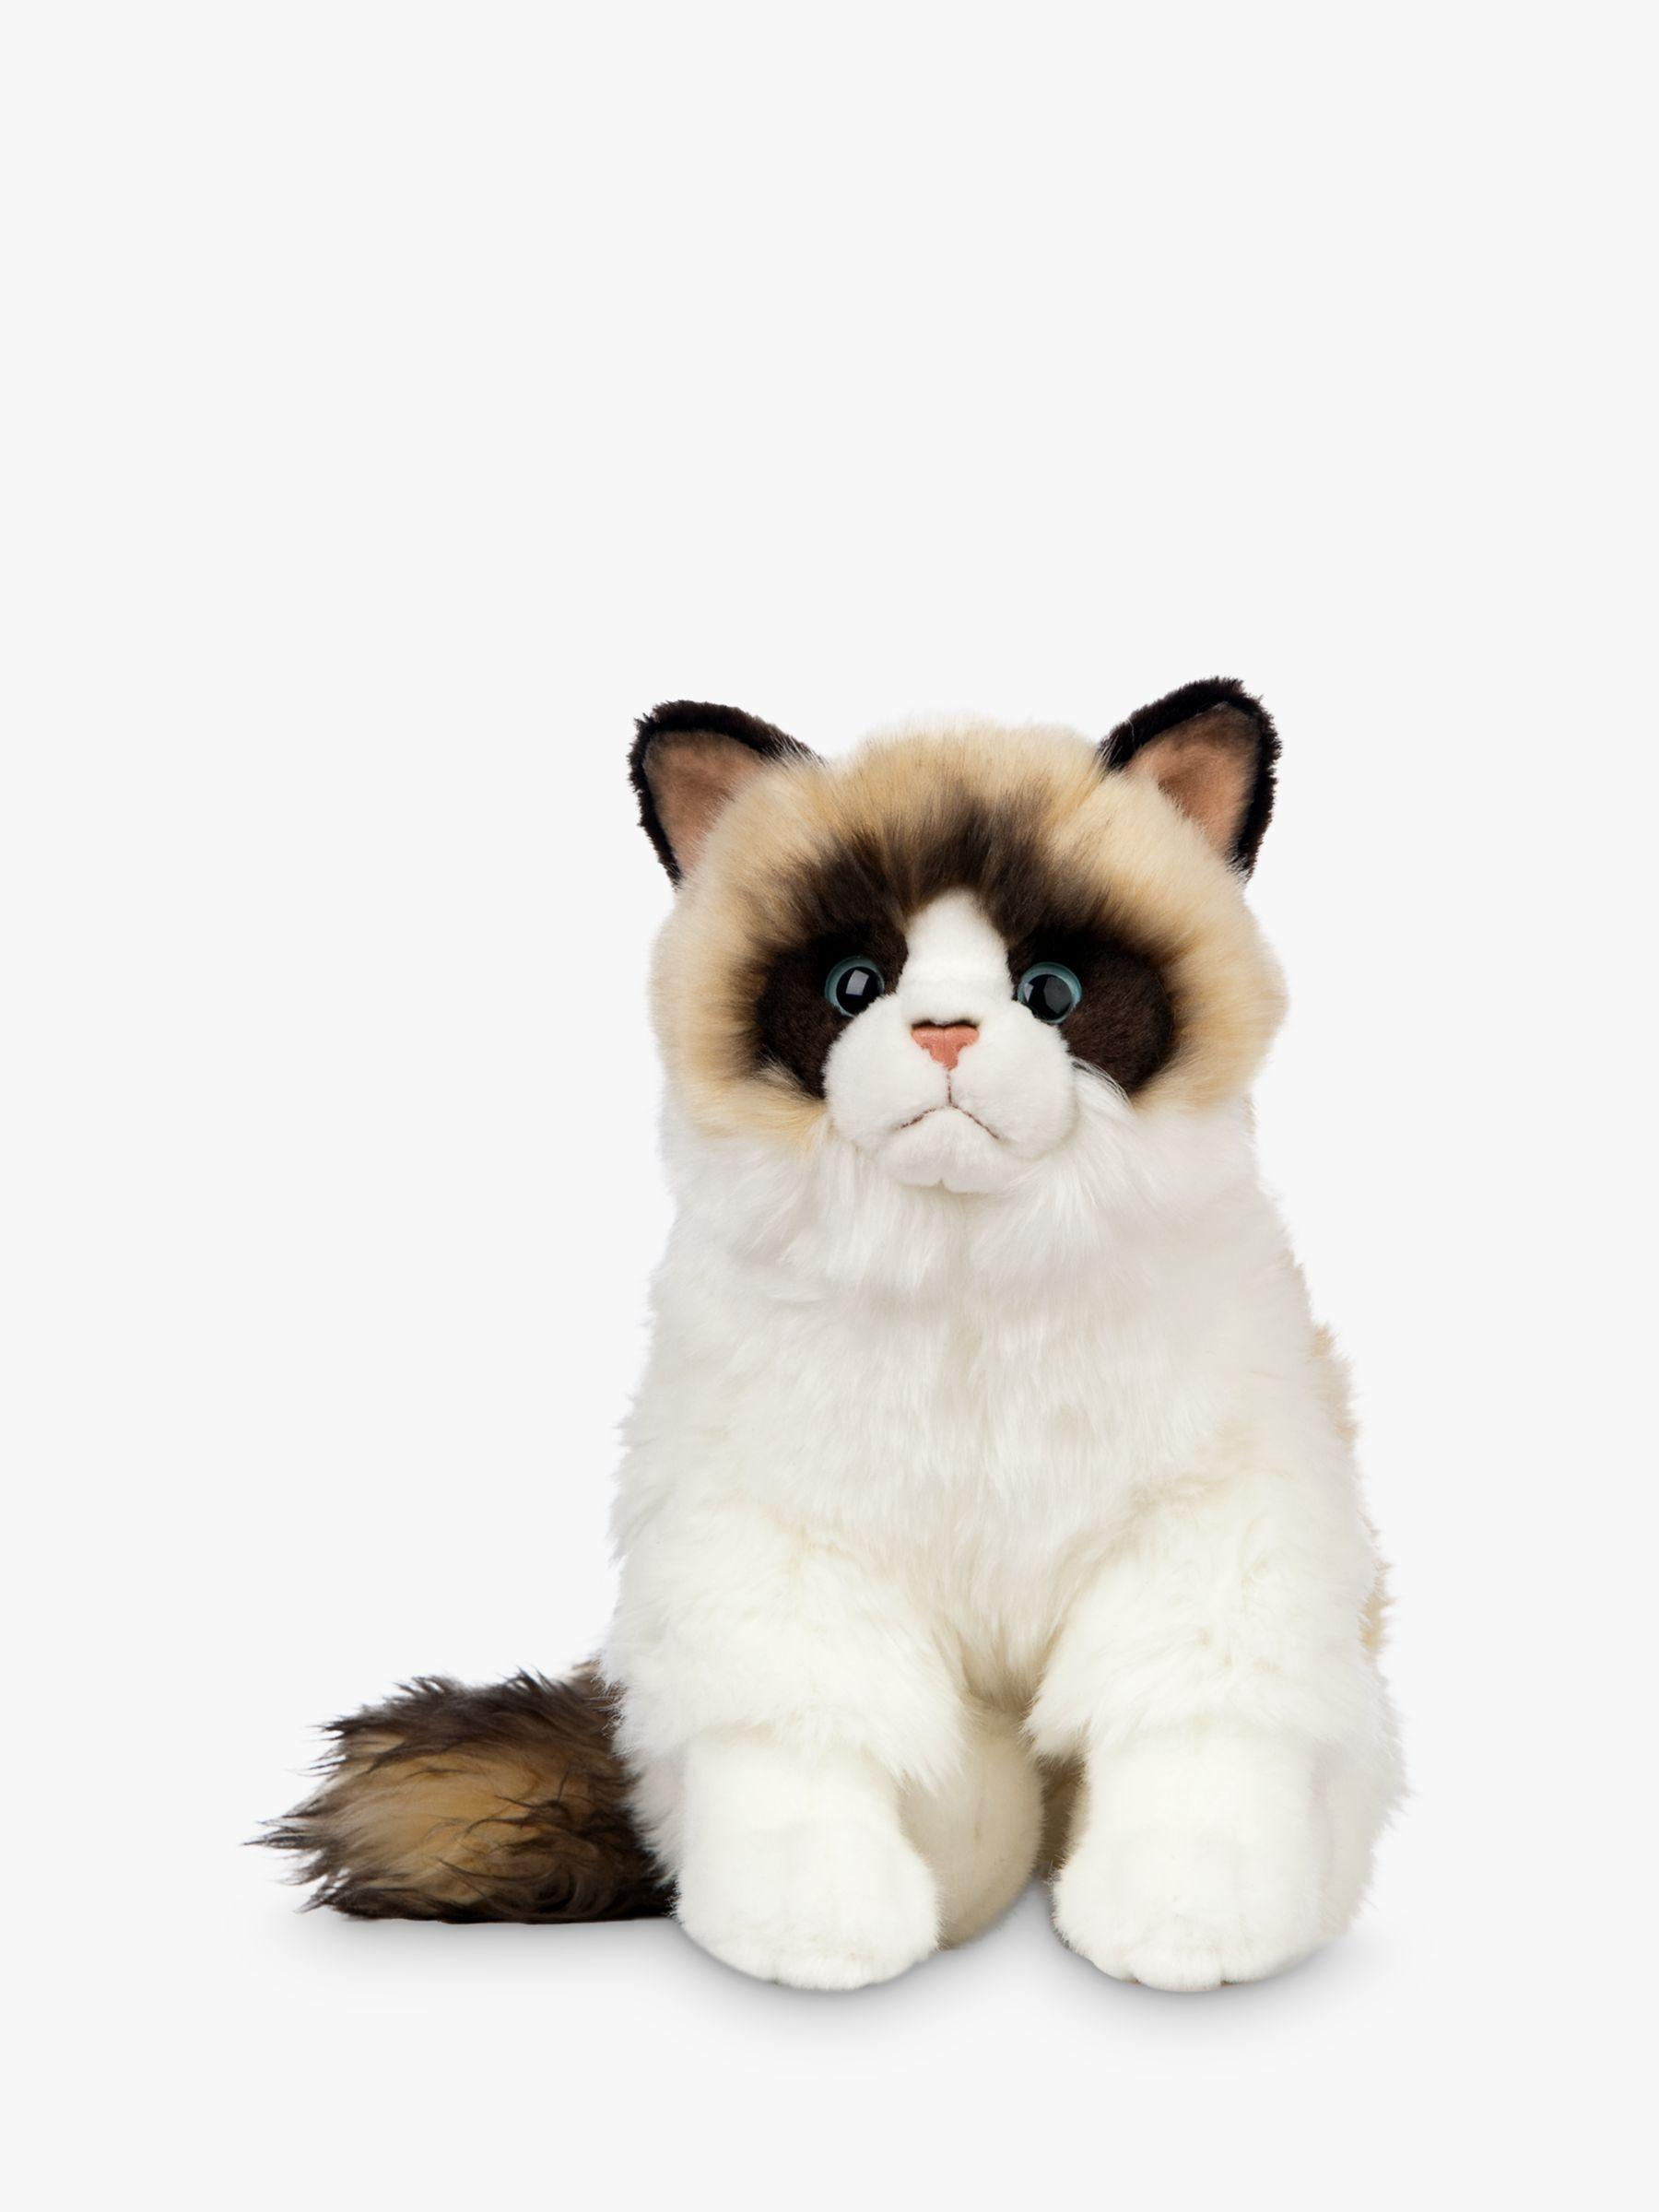ragdoll: (594, 639, 1328, 1285)
